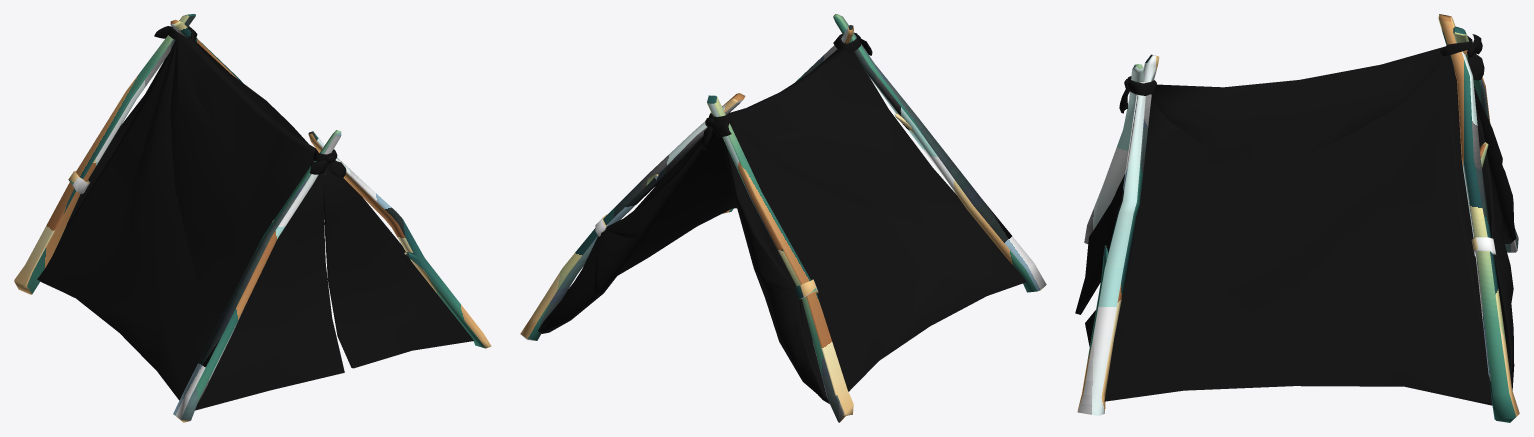
The model's file is Prop_Tent_01.glb.
3 renders of one model, left to right at view 1: azimuth 30°, elevation 25°; view 2: azimuth 150°, elevation 25°; view 3: azimuth 270°, elevation 25°, orthographic. The views are drawn at different scales.
Visible parts, largest first — view 1: Prop_Tent_01; view 2: Prop_Tent_01; view 3: Prop_Tent_01.
Boxes of the visible parts, x1,y1,x2,y2 form: Prop_Tent_01: (14, 14, 491, 422); Prop_Tent_01: (520, 14, 1046, 422); Prop_Tent_01: (1075, 14, 1519, 422).
Bounding box in the file's own units: 2.45 × 1.88 × 2.44.
1 material, 1 textured.
